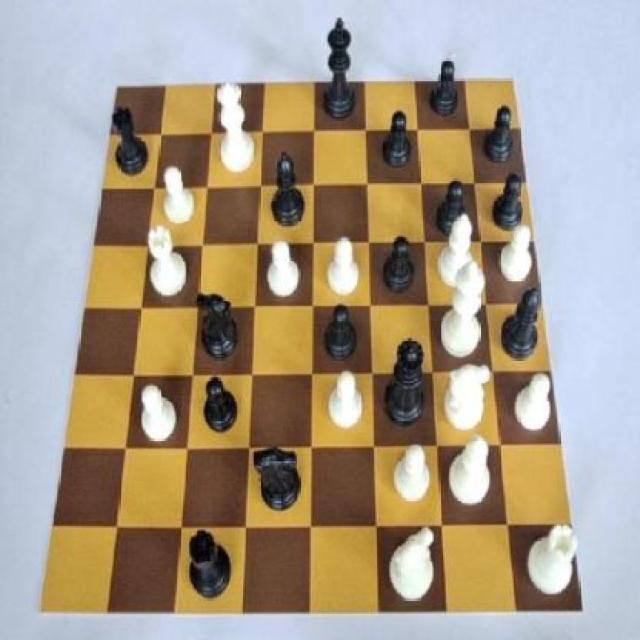bishop: (496, 288, 542, 364), (271, 151, 306, 229)
black-bishop: (318, 14, 362, 130)
black-king: (252, 448, 310, 518), (197, 289, 245, 373)
black-knight: (478, 108, 534, 175), (196, 368, 246, 440), (377, 230, 423, 308), (484, 174, 536, 241), (318, 296, 362, 366), (422, 62, 469, 126), (380, 106, 412, 176), (437, 179, 466, 233)
black-pawn: (380, 336, 428, 432)
black-queen: (180, 530, 238, 602), (103, 103, 152, 181)
black-rook: (432, 209, 480, 300), (446, 434, 499, 511)
white-bishop: (437, 260, 489, 360)
white-king: (385, 518, 440, 612), (440, 358, 497, 432)
white-knight: (125, 370, 182, 442), (388, 436, 440, 512), (511, 364, 563, 440), (320, 371, 368, 438), (154, 164, 202, 226), (496, 222, 536, 286), (263, 236, 302, 300), (326, 232, 362, 298)
white-pawn: (208, 77, 264, 185)
white-queen: (526, 522, 586, 596), (147, 220, 190, 305)
